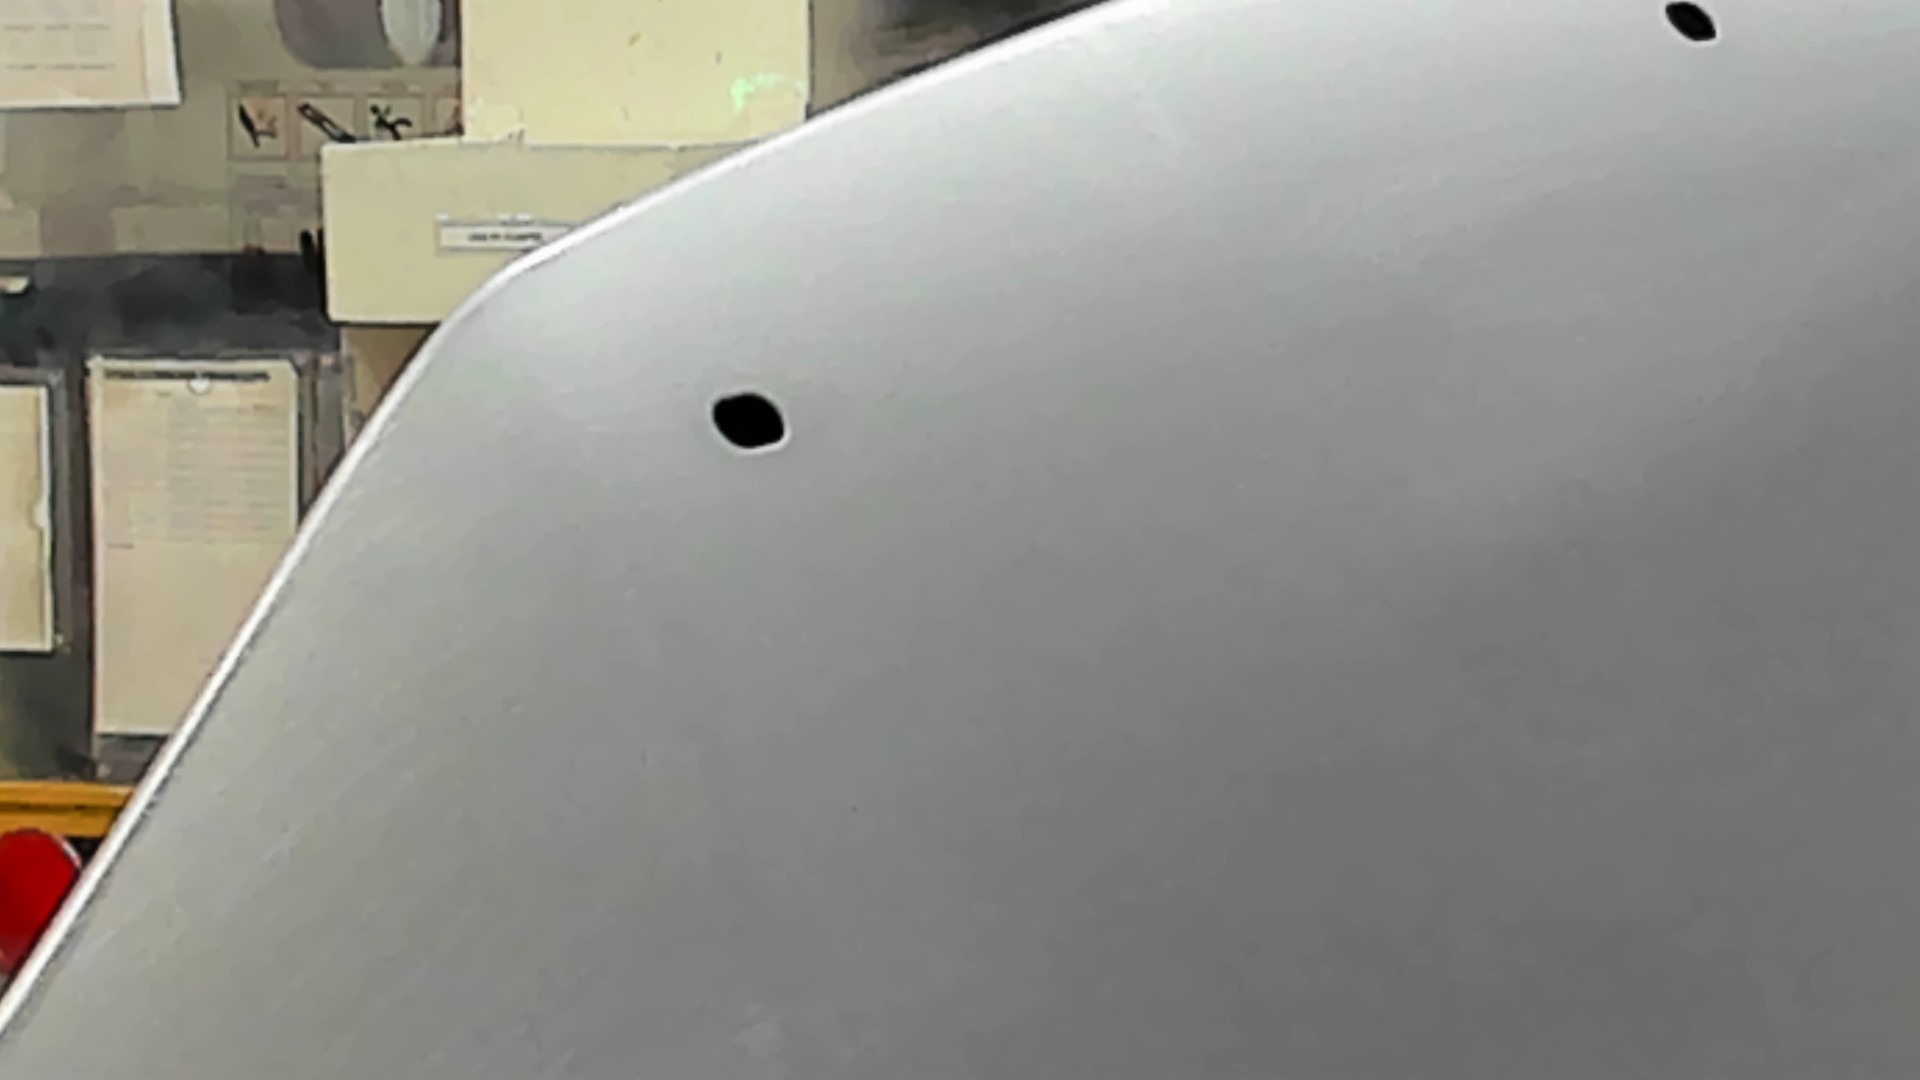chico: (705, 386, 798, 467), (1651, 1, 1743, 63)
